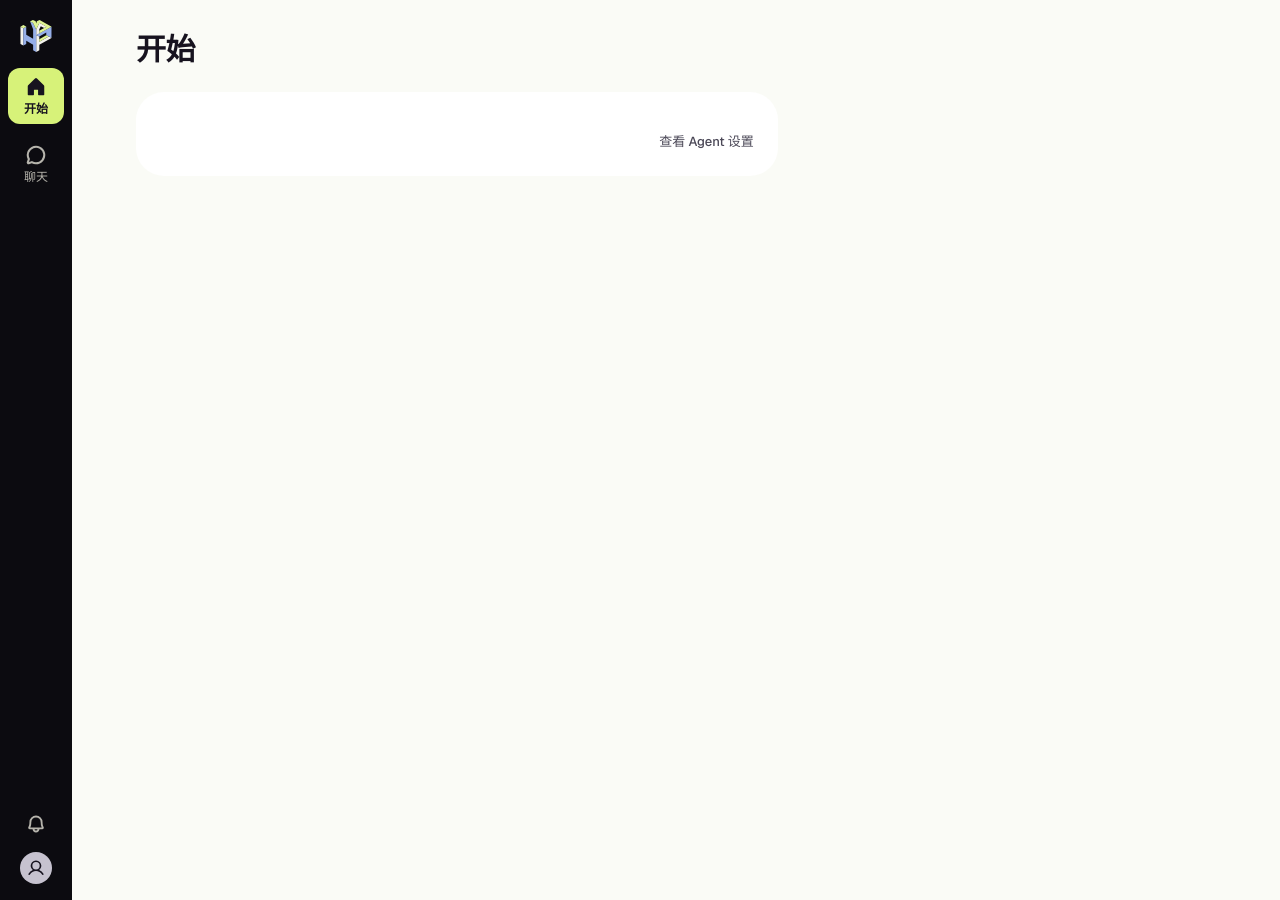
account menu › routes logout through the shared account settings capability
Click the button named "我的账号与 Agent 设置菜单".
click(36, 868)  # box [16, 848, 56, 888]
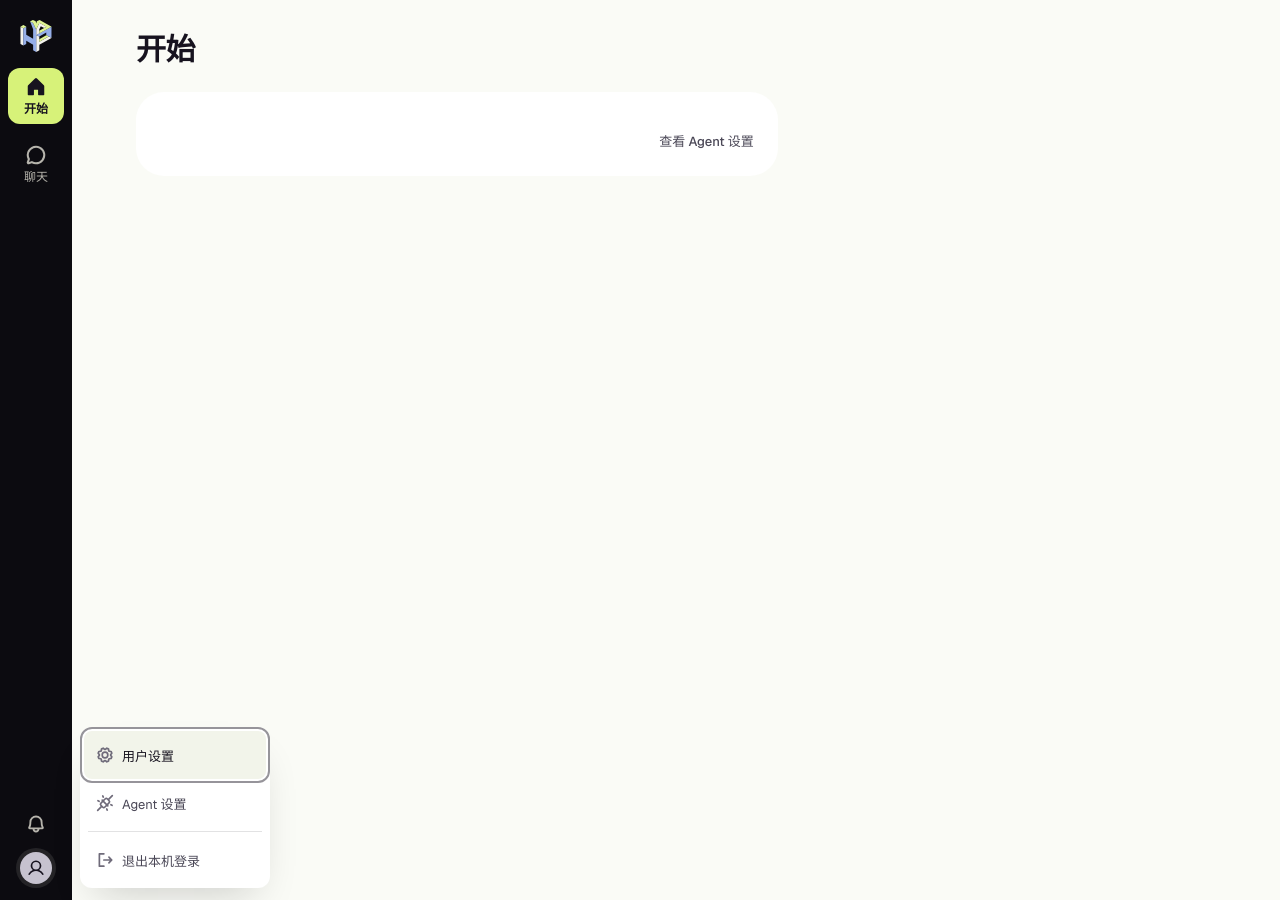
Click the menu item "退出本机登录".
click(175, 860)  # box [84, 836, 266, 884]
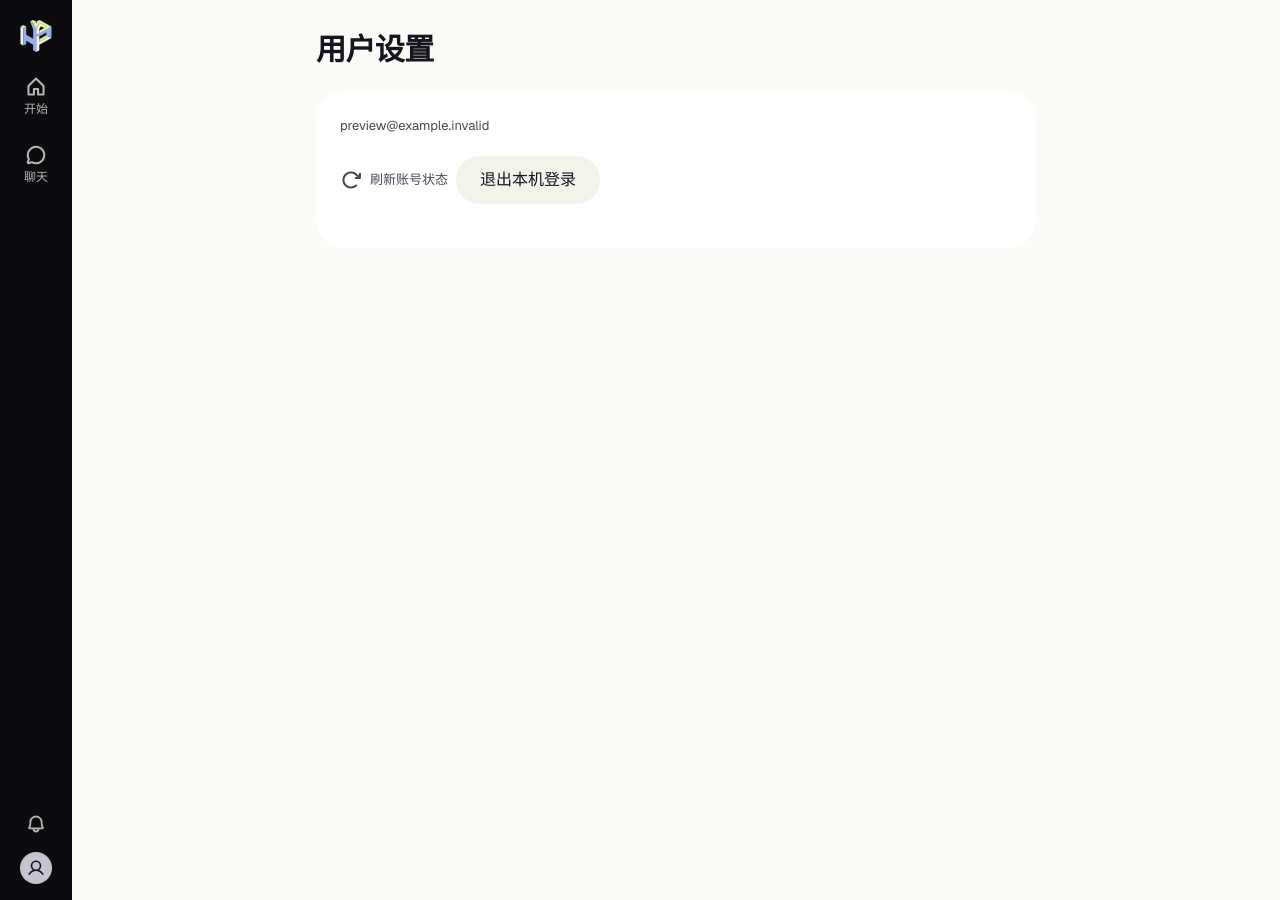
Now the heading "用户设置" is shown, box [316, 30, 434, 69]
Click the button "退出本机登录".
click(528, 180)  # box [456, 156, 600, 204]
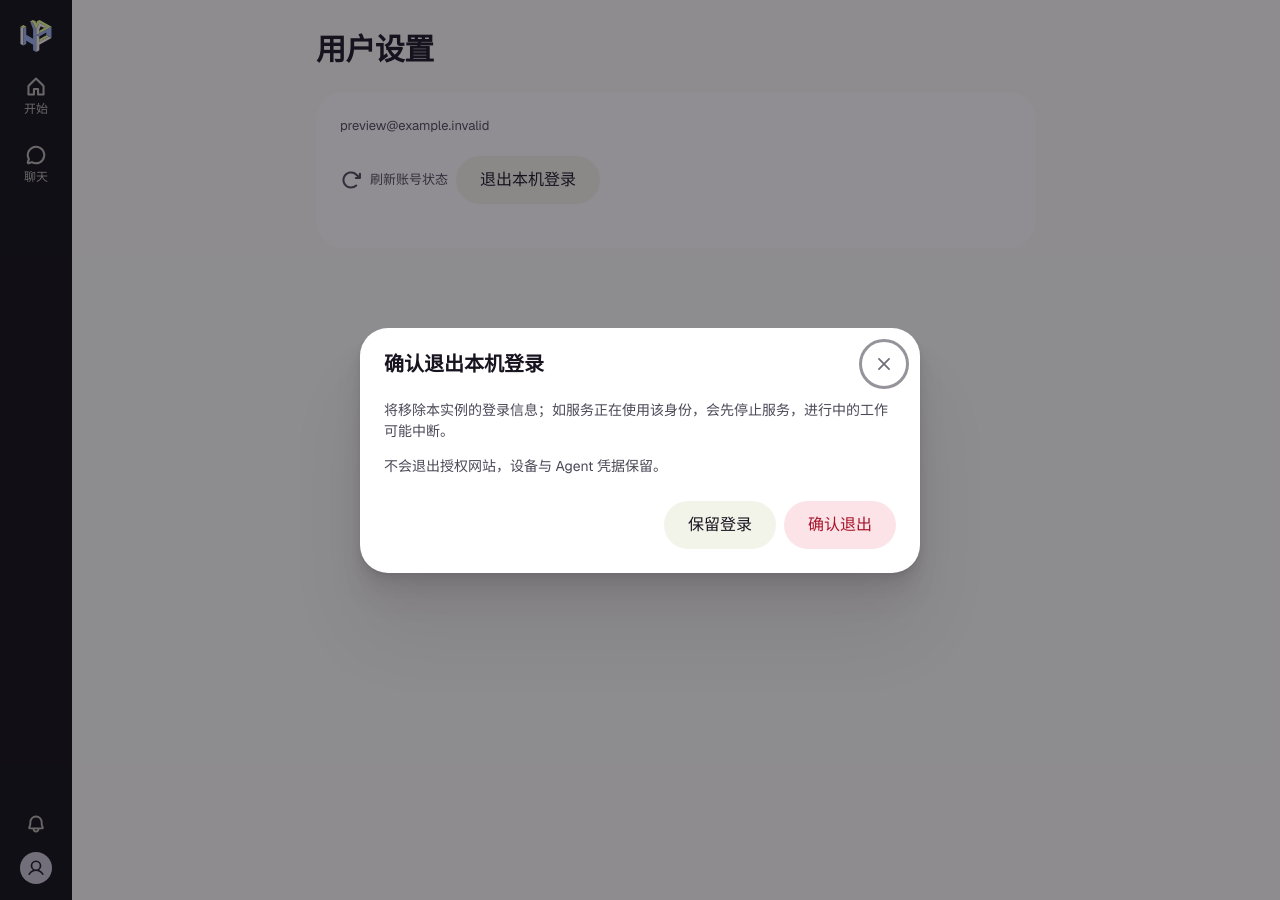
Click the button "确认退出".
click(840, 524)  # box [784, 500, 896, 548]
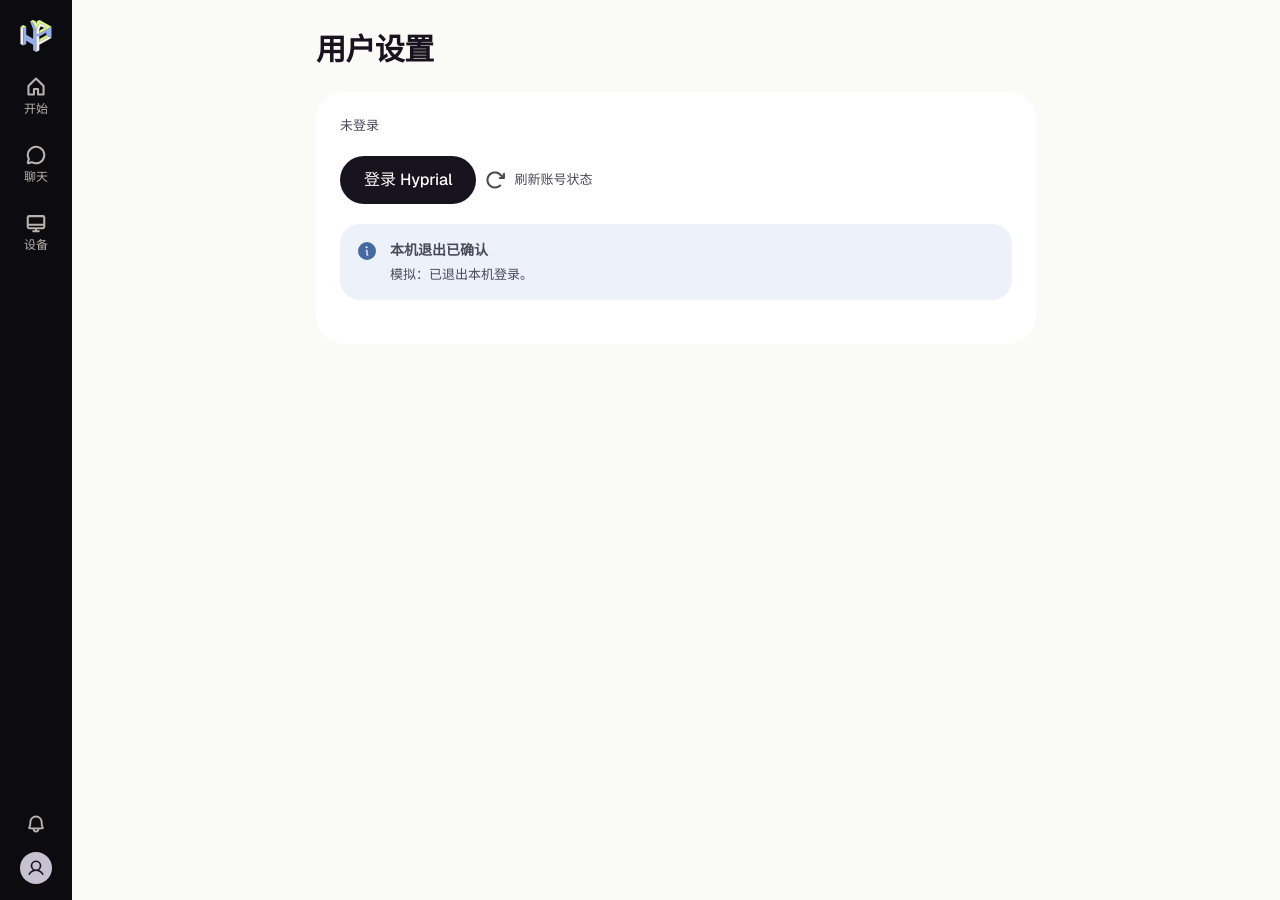
Now the button "登录 Hyprial" is shown, box [340, 156, 476, 204]
